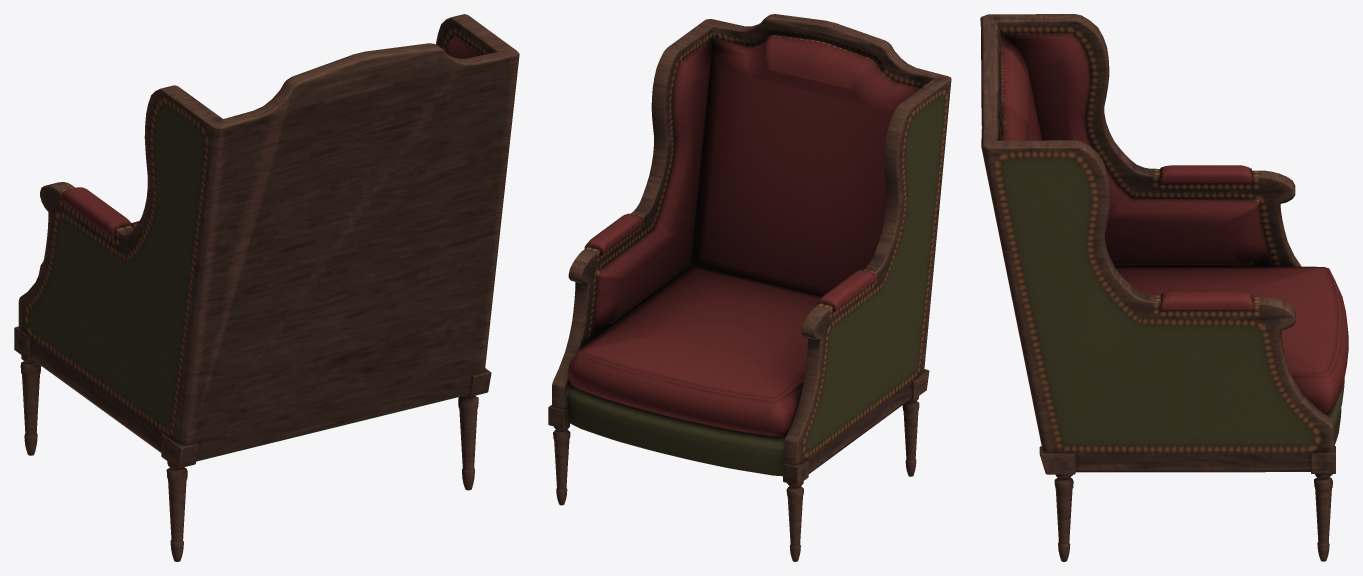
The model's file is Armchair_13.fbx.
3 renders of one model, left to right at view 1: azimuth 30°, elevation 25°; view 2: azimuth 150°, elevation 25°; view 3: azimuth 270°, elevation 25°, orthographic. The views are drawn at different scales.
Parts seen in each view (by area): view 1: Armchair_1; view 2: Armchair_1; view 3: Armchair_1.
Part boxes in pixels (<box>): Armchair_1: <box>14,14,519,561</box>; Armchair_1: <box>548,14,951,561</box>; Armchair_1: <box>980,14,1348,561</box>.
Bounding box in the file's own units: 64.82 × 98.61 × 73.78.
